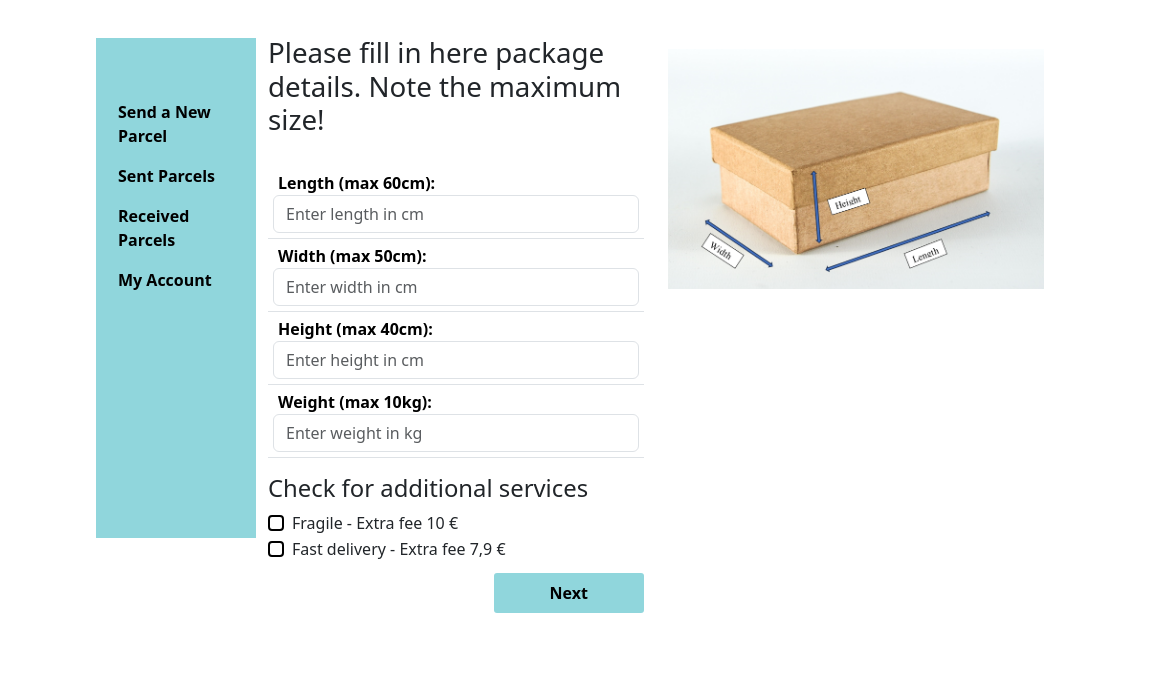
Test: renders SendNewParcel second view
The width and height of the screenshot is (1152, 700).
Click the button "Next": click(569, 593) top-left (494, 573), bottom-right (644, 613)
(page scrolled)
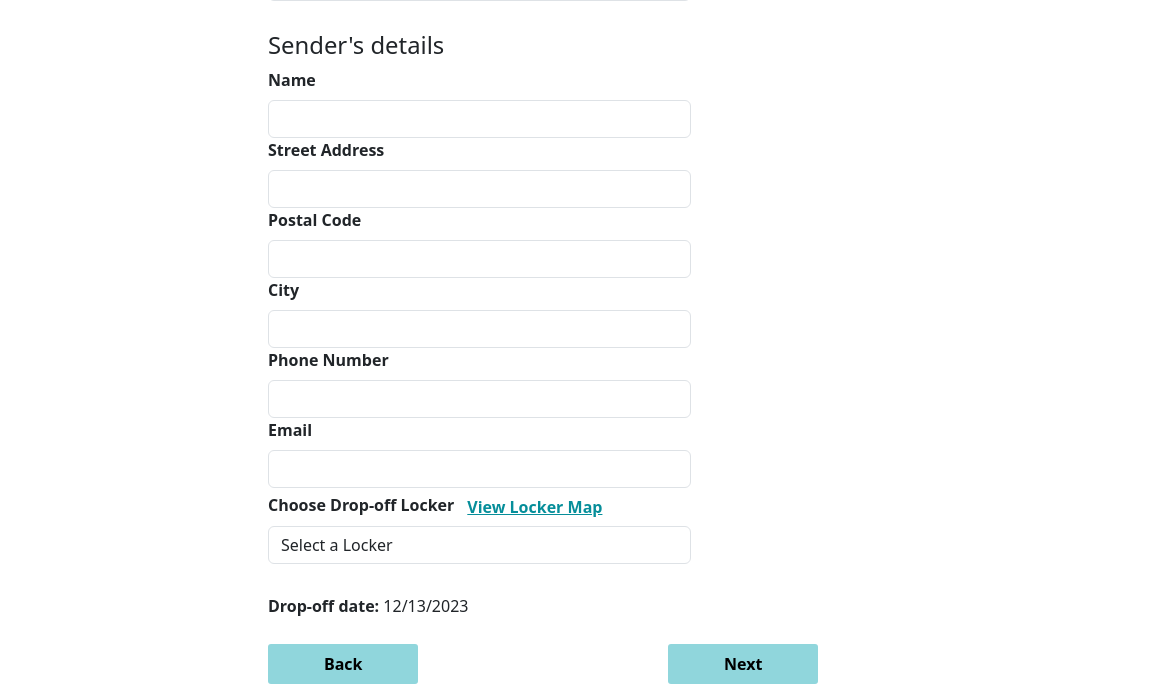
Note: find the Back button and click it
Click the button "Back": click(343, 664) top-left (268, 644), bottom-right (418, 684)
(page scrolled)
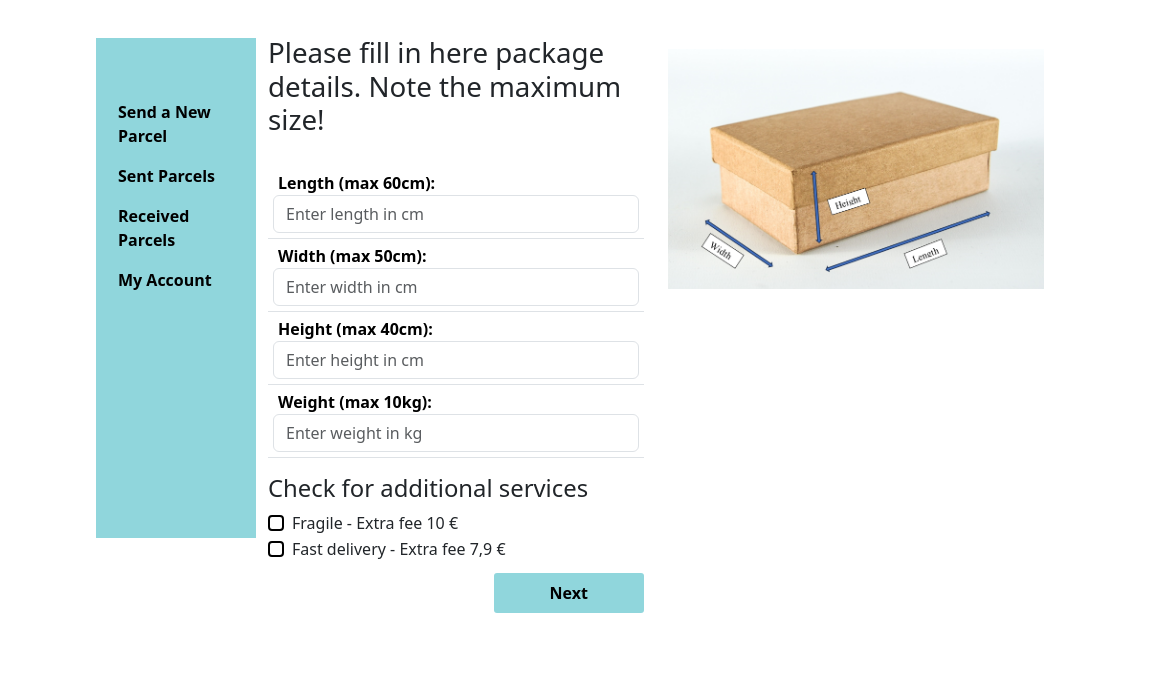
Now the heading "Please fill in here package details. Note the maximum size!" is shown, box top-left (268, 36), bottom-right (644, 136)
